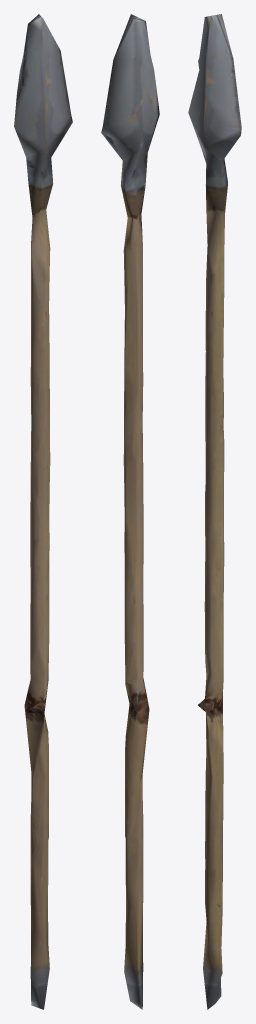
Rendered from speer_einhand.glb.
3 renders of one model, left to right at view 1: azimuth 30°, elevation 25°; view 2: azimuth 210°, elevation 25°; view 3: azimuth 330°, elevation 25°, orthographic.
Bounding box in the file's own units: 0.1113 × 1.89 × 0.0606.
Materials: 1 (1 with a texture image).
